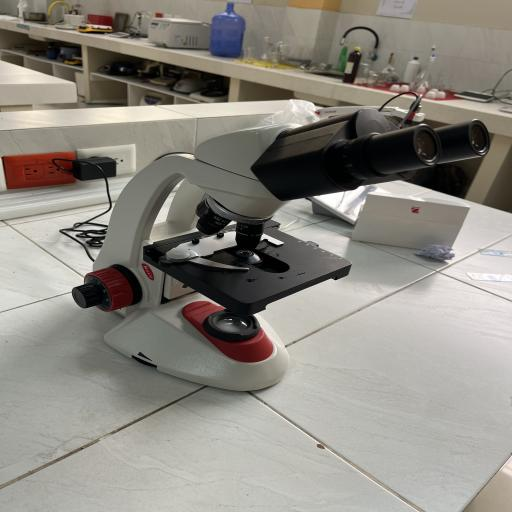Microscopio_Binocular: (63, 91, 498, 402)
